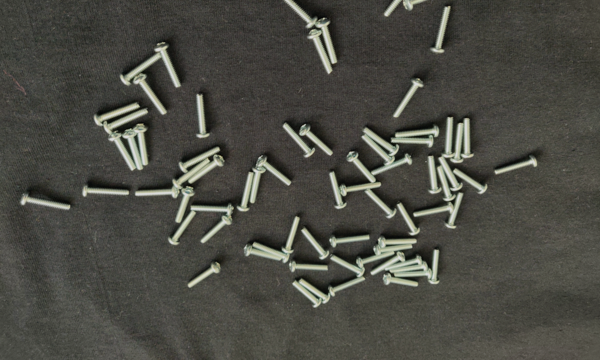longscrew: (133, 73, 169, 115), (119, 51, 162, 86), (154, 41, 183, 89), (392, 77, 425, 119), (172, 157, 212, 190), (276, 0, 319, 30), (103, 107, 149, 135), (307, 29, 334, 76), (282, 121, 316, 158), (179, 145, 222, 174), (299, 123, 334, 158), (94, 101, 141, 127), (361, 126, 400, 157), (188, 154, 227, 185), (430, 4, 454, 54), (107, 131, 136, 172), (361, 133, 396, 166), (315, 17, 339, 65), (256, 155, 292, 187), (371, 152, 415, 177), (168, 210, 198, 246), (346, 150, 377, 184), (364, 189, 398, 220), (300, 226, 331, 260), (187, 260, 222, 290), (200, 214, 234, 244), (19, 192, 72, 211), (495, 155, 540, 177), (252, 240, 291, 265), (438, 156, 465, 192), (453, 168, 489, 195), (122, 128, 144, 171), (291, 280, 323, 309), (330, 253, 367, 278), (371, 251, 406, 277), (397, 200, 422, 236), (328, 275, 367, 298), (298, 278, 331, 305), (174, 186, 197, 224), (443, 192, 465, 230), (395, 122, 440, 140), (436, 164, 457, 202), (328, 171, 348, 210), (385, 253, 424, 273), (247, 165, 267, 204), (282, 216, 302, 254), (244, 242, 282, 262), (413, 201, 455, 219), (195, 93, 211, 140), (237, 172, 255, 213), (133, 123, 150, 166), (356, 251, 396, 269), (329, 232, 371, 249), (384, 0, 423, 18), (340, 181, 383, 197), (190, 201, 235, 216), (135, 186, 180, 201), (391, 134, 435, 149), (289, 259, 330, 275), (81, 185, 131, 198), (461, 116, 476, 159), (441, 116, 456, 159), (427, 155, 443, 195), (382, 272, 419, 289), (450, 122, 465, 163), (403, 0, 453, 12), (389, 260, 429, 275), (373, 243, 414, 257), (428, 248, 443, 286), (377, 236, 419, 249), (393, 267, 432, 281)
